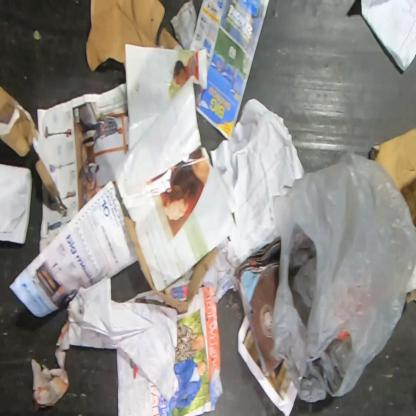cardboard: (123, 211, 218, 313), (0, 86, 69, 210), (85, 0, 185, 73), (368, 126, 416, 228), (405, 264, 416, 304)
soft_plastic: (268, 150, 416, 404)
